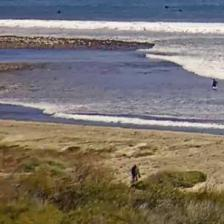surfer: (211, 79, 218, 89), (56, 10, 62, 14), (164, 5, 170, 9), (179, 9, 183, 13)
